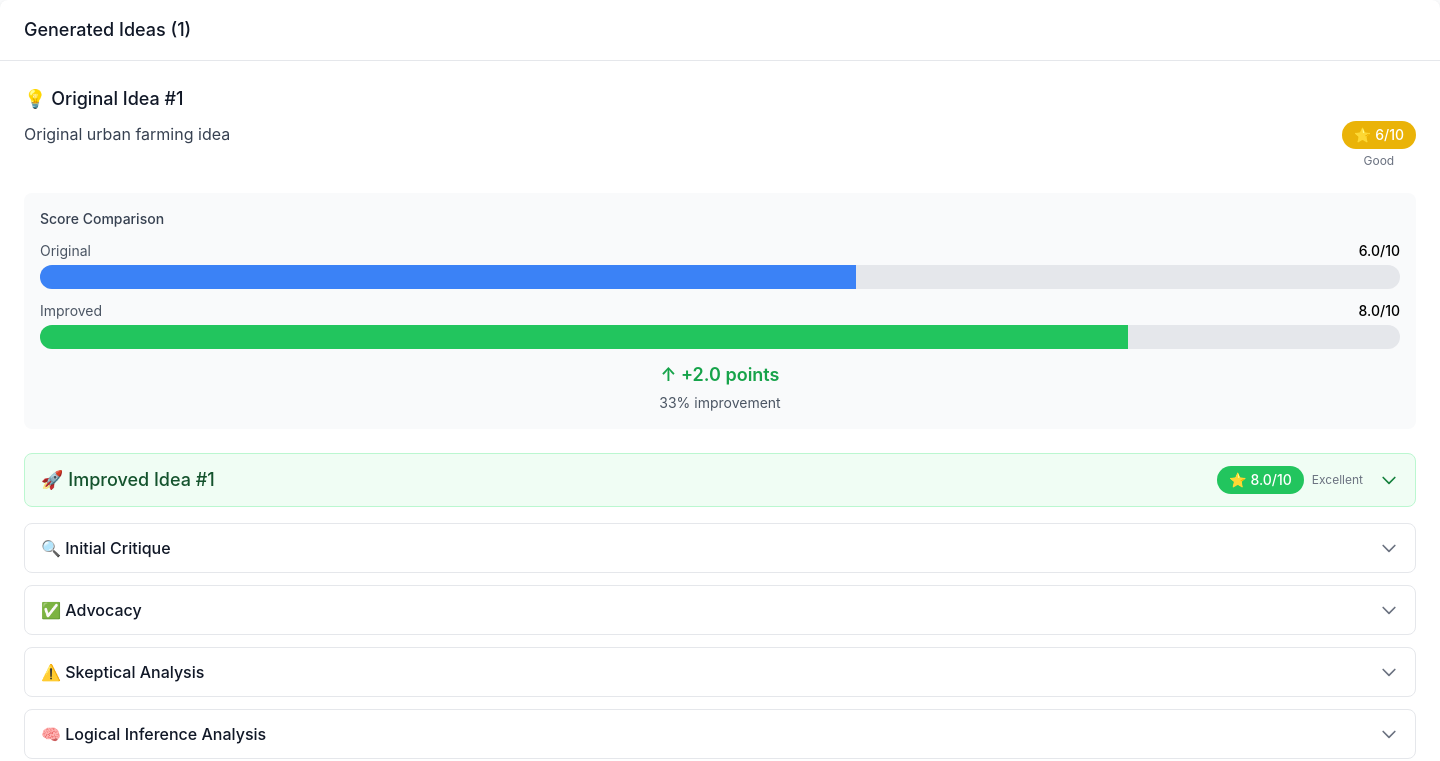
Test: ResultsDisplay - Logical Inference Display › should display causal chain when present
The image size is (1440, 761).
Expand the logical inference section
Click the button with aria-label "toggle logical inference": (154, 734) x1=25 y1=710 x2=1415 y2=758
(page scrolled)
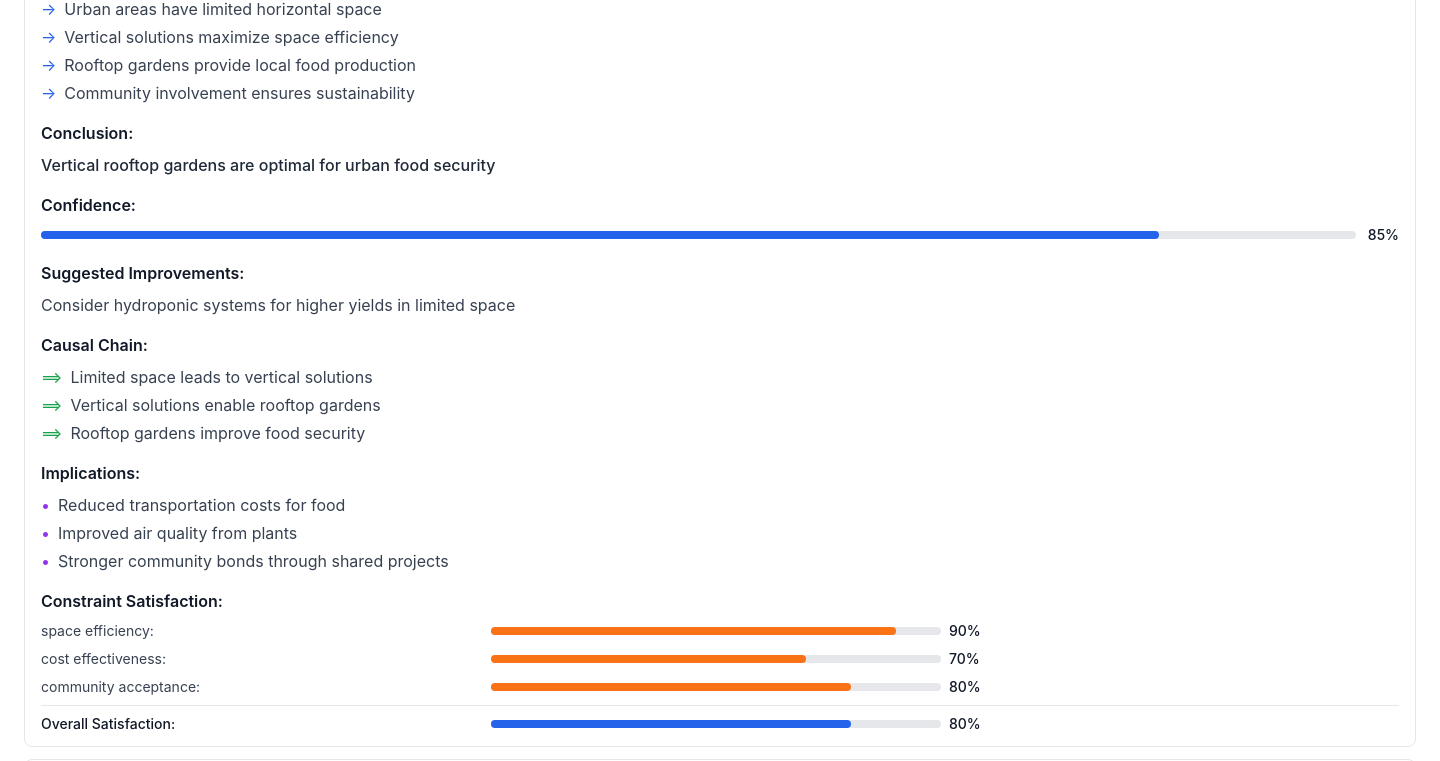
Check: the text "Limited space leads to vertical solutions" is shown, box x1=70 y1=365 x2=373 y2=389
Check: the text "Vertical solutions enable rooftop gardens" is shown, box x1=70 y1=393 x2=381 y2=417
